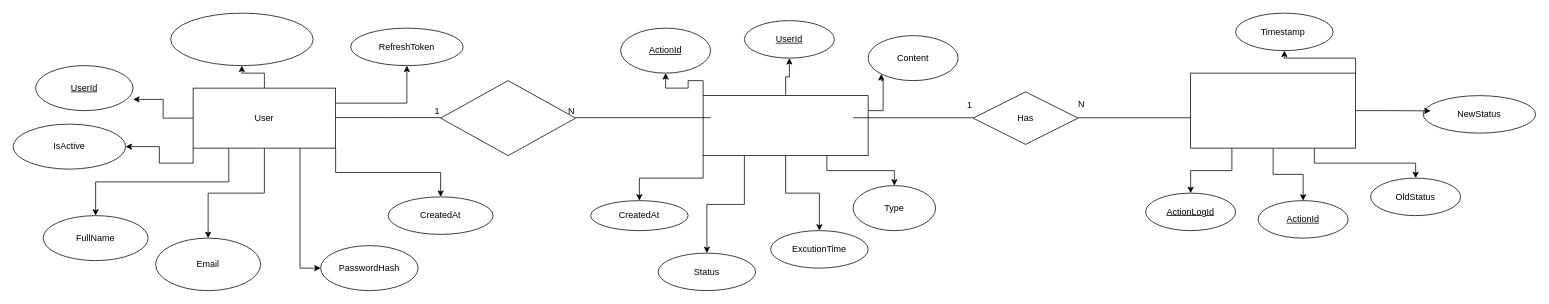
Image size: 1549x304. Some labels were removed from this diagram. The shapes that lost their labels are listed below. From the top down, each one's box as (x1, y1, x2, y2) in pixels, then its label:
(170, 12, 313, 66): RefreshTokenExpirationTime
(440, 80, 576, 156): Has and Can create
(702, 95, 868, 156): Action
(1190, 72, 1356, 148): ActionLog
